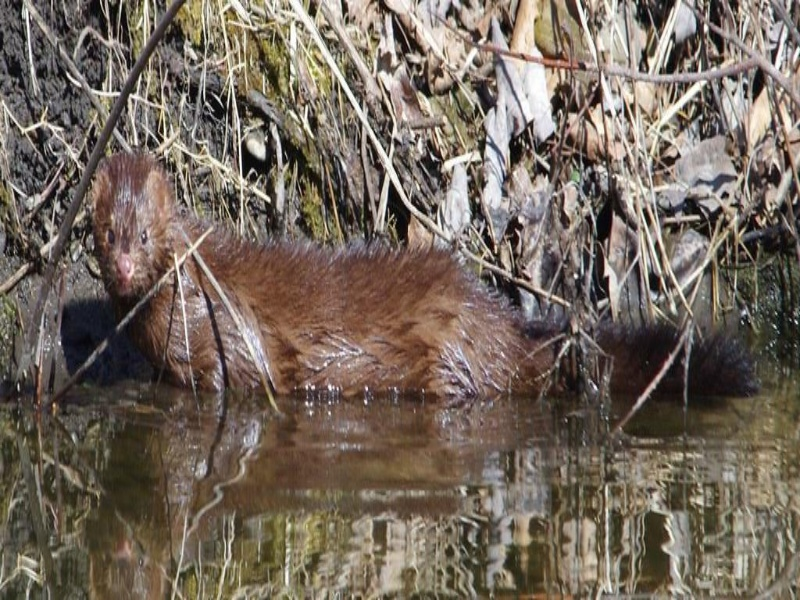minkish: (92, 153, 752, 408)
